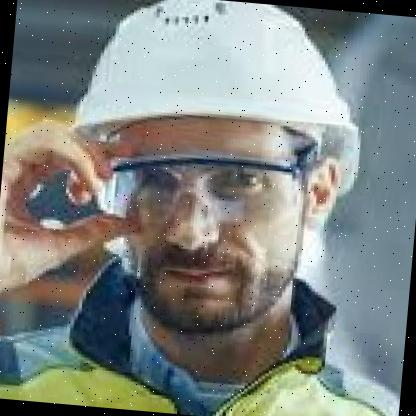capacete: (66, 0, 383, 215)
oculos: (90, 140, 309, 236)
